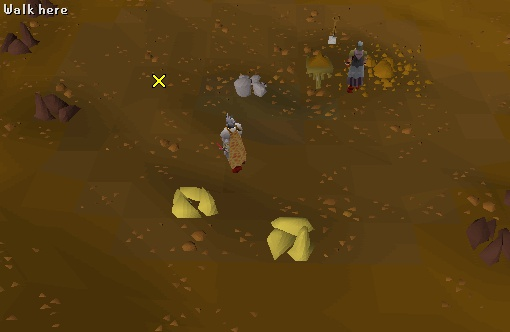gold: (255, 208, 331, 269), (153, 175, 229, 236)
iron: (25, 85, 86, 132), (1, 18, 41, 63)
